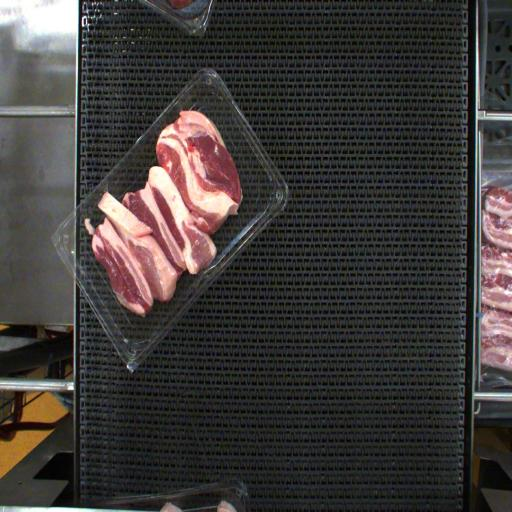twisted-meat: (98, 195, 176, 292)
